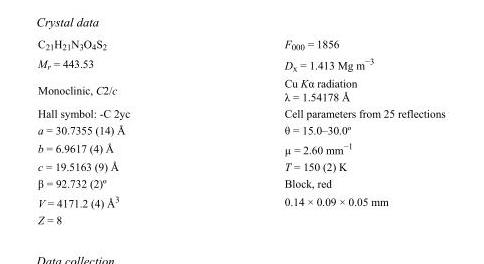table: (37, 37, 444, 225)
table column: (206, 37, 444, 225), (37, 37, 206, 225)
table row: (37, 74, 444, 104), (37, 53, 444, 74), (37, 191, 444, 211), (37, 138, 444, 157), (37, 104, 444, 121), (37, 121, 444, 138), (37, 157, 444, 174), (37, 174, 444, 191), (37, 37, 444, 53), (37, 211, 444, 225)
